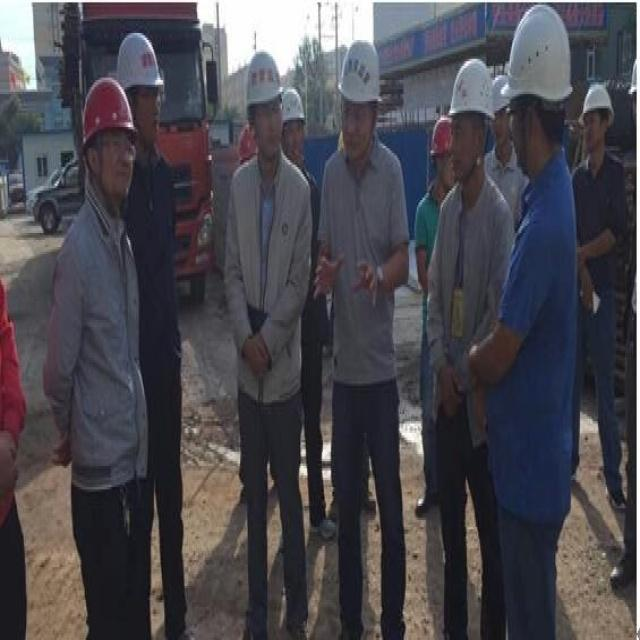helmet: (506, 7, 568, 229), (79, 97, 133, 276), (116, 37, 161, 200), (450, 79, 492, 245), (338, 51, 381, 213), (245, 64, 282, 217), (580, 104, 613, 217), (280, 109, 304, 216), (429, 155, 453, 252), (490, 94, 510, 198)
